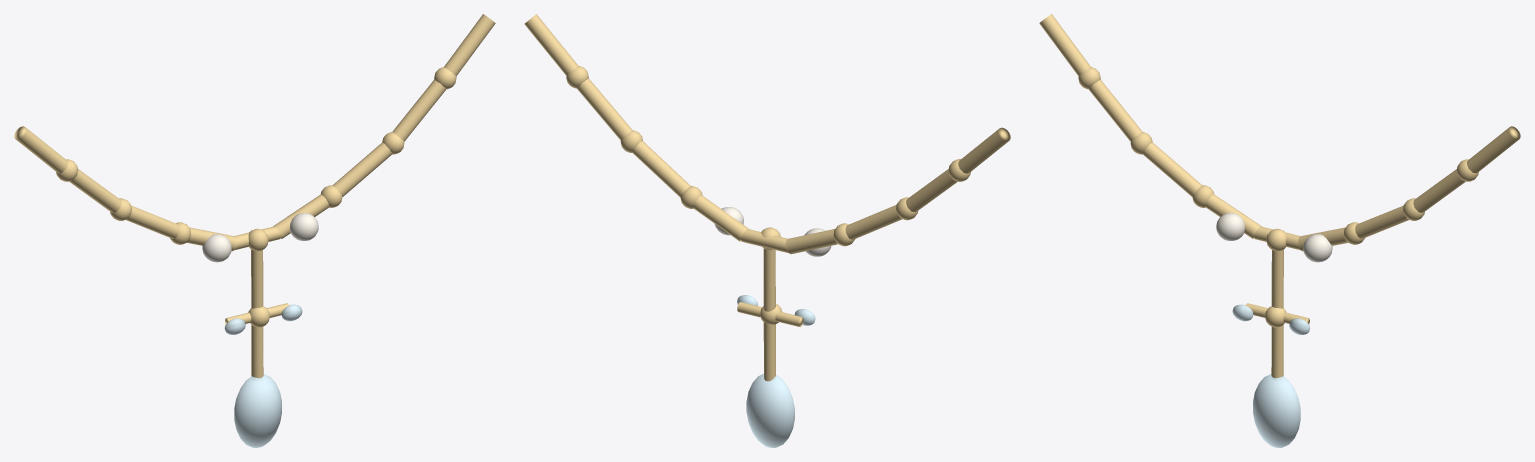
File: lariat-necklace.v2.safe.glb
The picture shows the model from 3 angles, left to right: view 1: azimuth 30°, elevation 25°; view 2: azimuth 150°, elevation 25°; view 3: azimuth 330°, elevation 25°; orthographic projection.
Parts seen in each view (by area): view 1: safe-lariat-necklace-v2; view 2: safe-lariat-necklace-v2; view 3: safe-lariat-necklace-v2.
Part boxes in pixels (x1,y1,x2,y2): safe-lariat-necklace-v2: (14,14,495,447); safe-lariat-necklace-v2: (524,14,1010,447); safe-lariat-necklace-v2: (1039,14,1520,447).
Bounding box in the file's own units: 1.27 × 0.9448 × 0.082.
